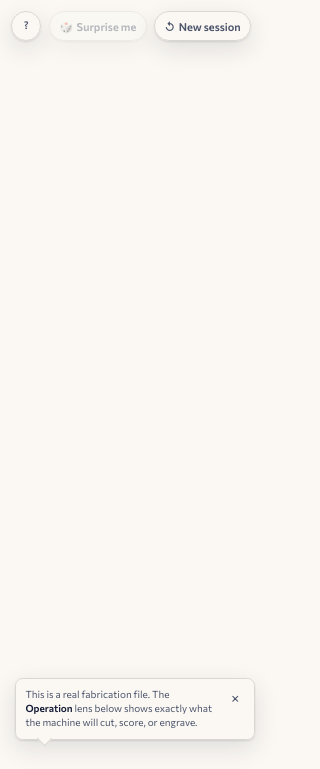
Test: GuestOnboarding (S2) › the "?" reopen affordance clears dismissal and re-shows the chooser
Step 1. Click the button named "reopen starter guide" → (26, 26), box [11,11,41,41]
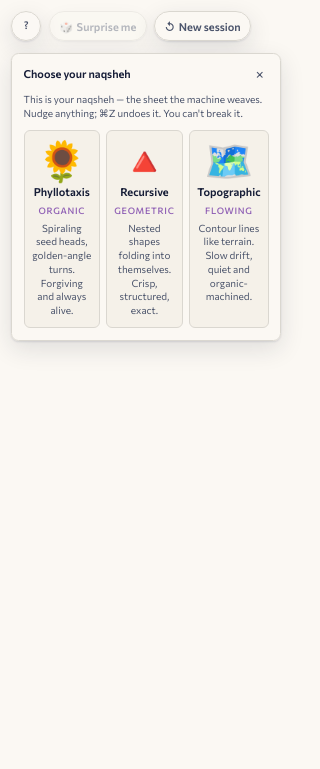
Check: the element with test id "guest-onboarding-chooser" is shown, box [11,52,281,341]
